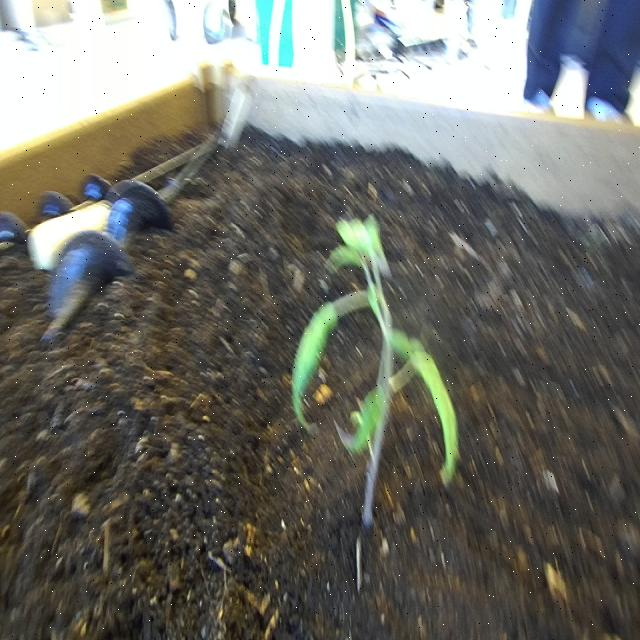Healthy: (290, 210, 462, 540)
